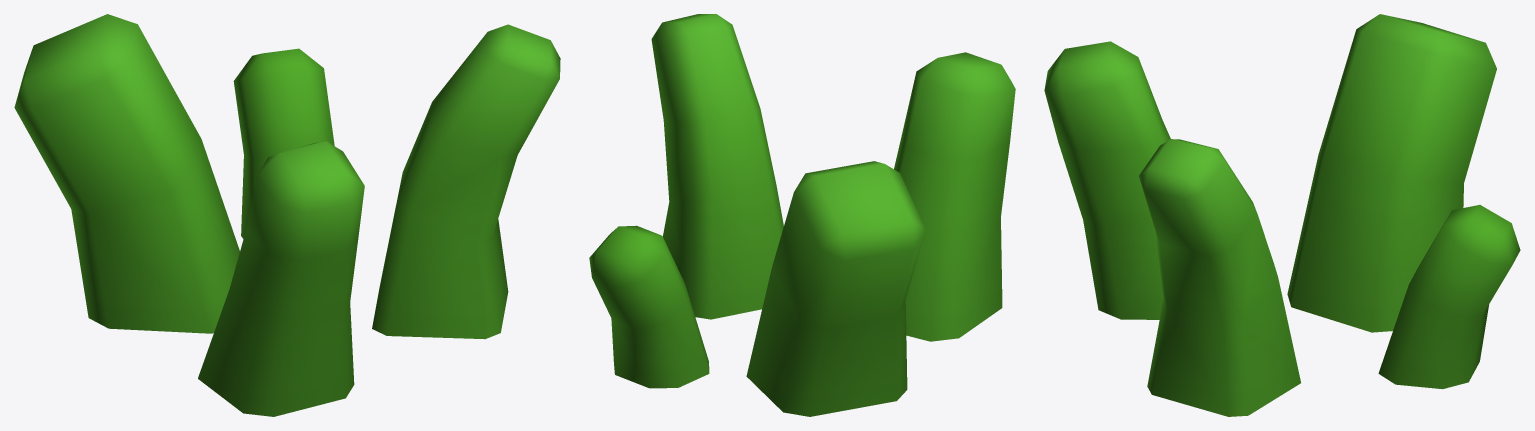
The model's file is Grass_1_2.glb.
3 renders of one model, left to right at view 1: azimuth 30°, elevation 25°; view 2: azimuth 150°, elevation 25°; view 3: azimuth 270°, elevation 25°, orthographic. The views are drawn at different scales.
Parts seen in each view (by area): view 1: Grass_1_2; view 2: Grass_1_2; view 3: Grass_1_2.
Boxes of the visible parts, left/top/right/bottom form: Grass_1_2: left=14, top=14, right=560, bottom=416; Grass_1_2: left=589, top=14, right=1015, bottom=416; Grass_1_2: left=1044, top=14, right=1520, bottom=416.
Bounding box in the file's own units: 0.2258 × 0.1437 × 0.2355.
Materials: 1 (1 with a texture image).
